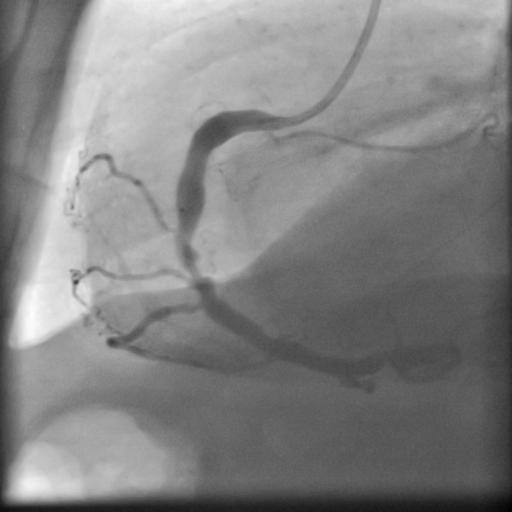Stenosis: (176, 242, 216, 288)
